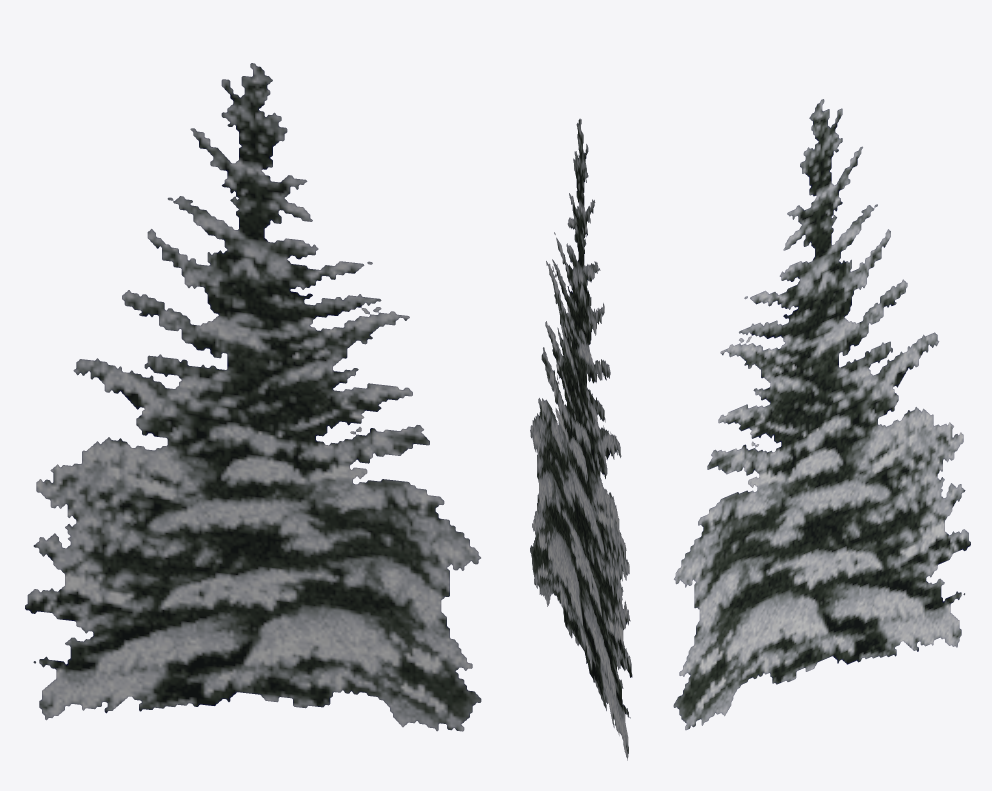
Rendered from Foliage4.fbx.
3 views of the same model, side by side, from view 1: azimuth 30°, elevation 25°; view 2: azimuth 150°, elevation 25°; view 3: azimuth 270°, elevation 25° (orthographic). The views are drawn at different scales.
Visible parts, largest first — view 1: Foliage4; view 2: Foliage4; view 3: Foliage4.
Part boxes in pixels (left/top/right/bottom): Foliage4: left=25, top=63, right=481, bottom=731; Foliage4: left=530, top=118, right=632, bottom=760; Foliage4: left=673, top=99, right=970, bottom=730.
Size of the model in its own units: 976 by 2154 by 976.
